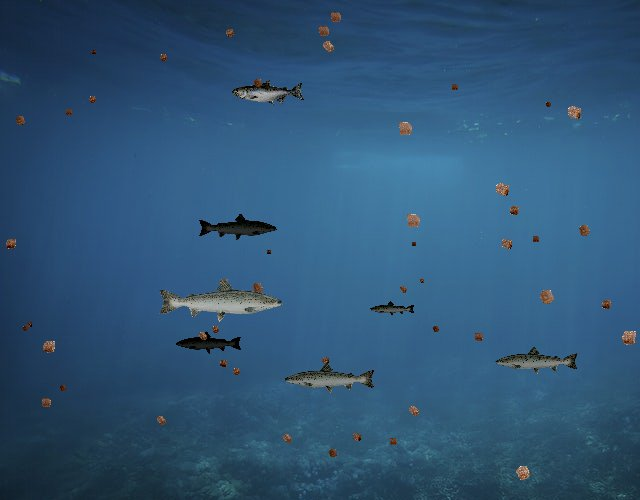Fish: (156, 277, 285, 323), (284, 361, 378, 395), (494, 345, 580, 376), (198, 212, 279, 241), (233, 79, 306, 105), (176, 330, 244, 354), (370, 301, 417, 318)
Pellet: (614, 322, 640, 353), (316, 35, 340, 59), (10, 110, 31, 131), (220, 24, 239, 43), (84, 92, 100, 108), (542, 98, 555, 111), (23, 319, 35, 331)
